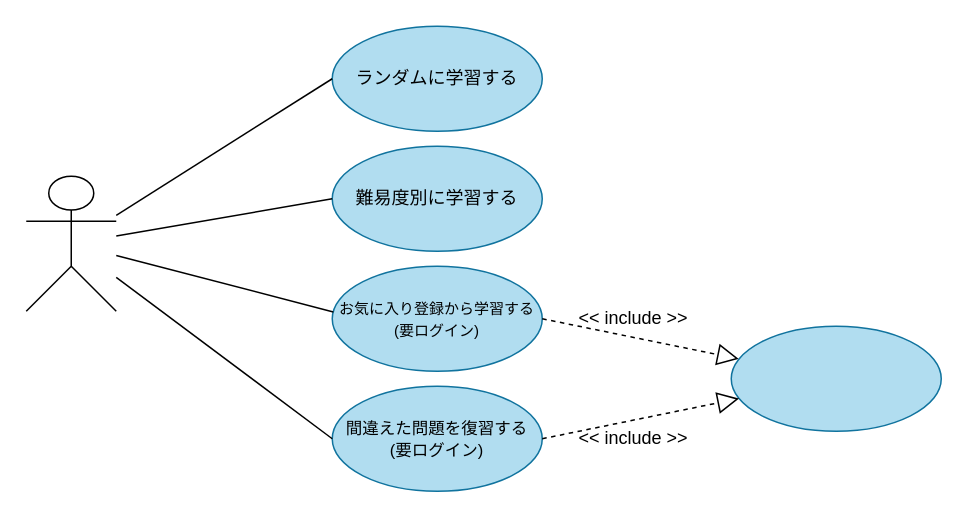
Image size: 968x518. Some labels were removed from this diagram. Each missing label, with the box of its shape:
ログイン: (730, 325, 941, 431)
学習者: (25, 175, 116, 311)
